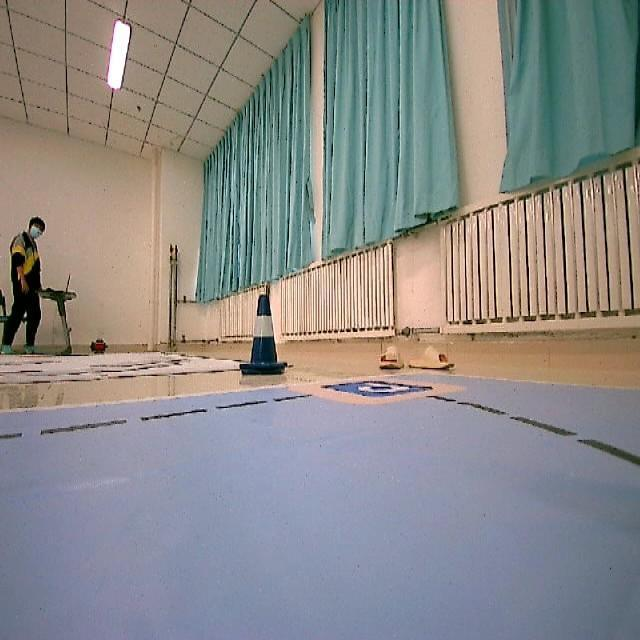obstacle: (226, 295, 294, 378)
